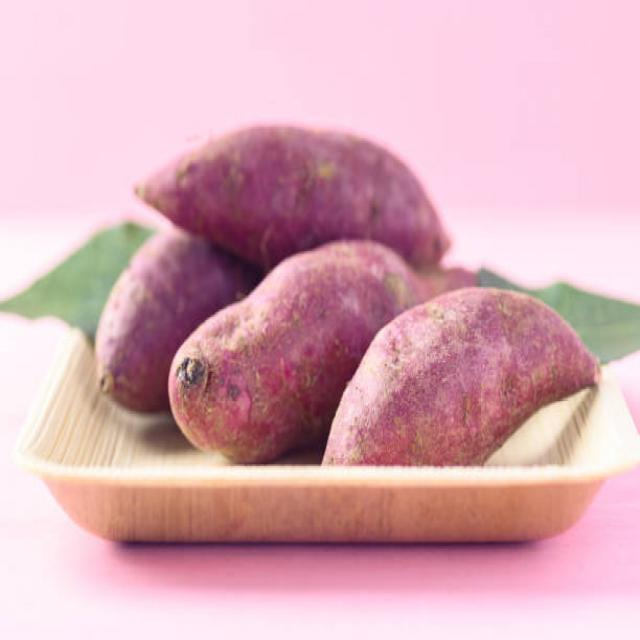Sweet Potato: (327, 282, 596, 464), (139, 120, 452, 247), (170, 250, 328, 455), (93, 252, 169, 414)
